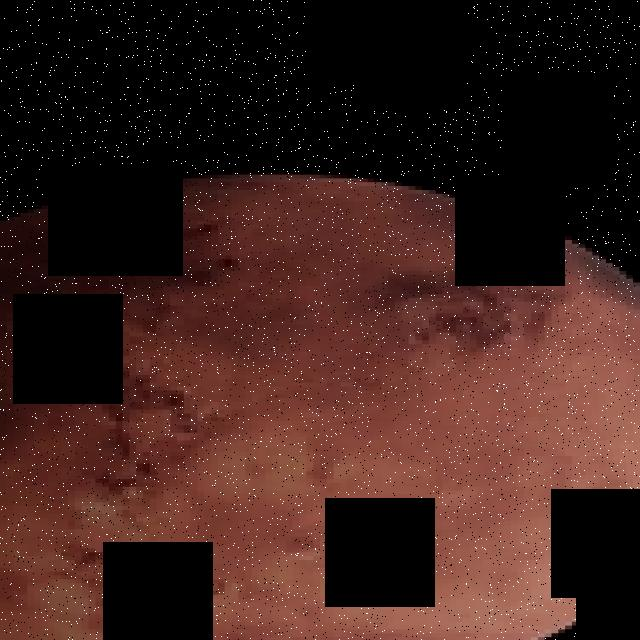Mars: (0, 173, 640, 640)
